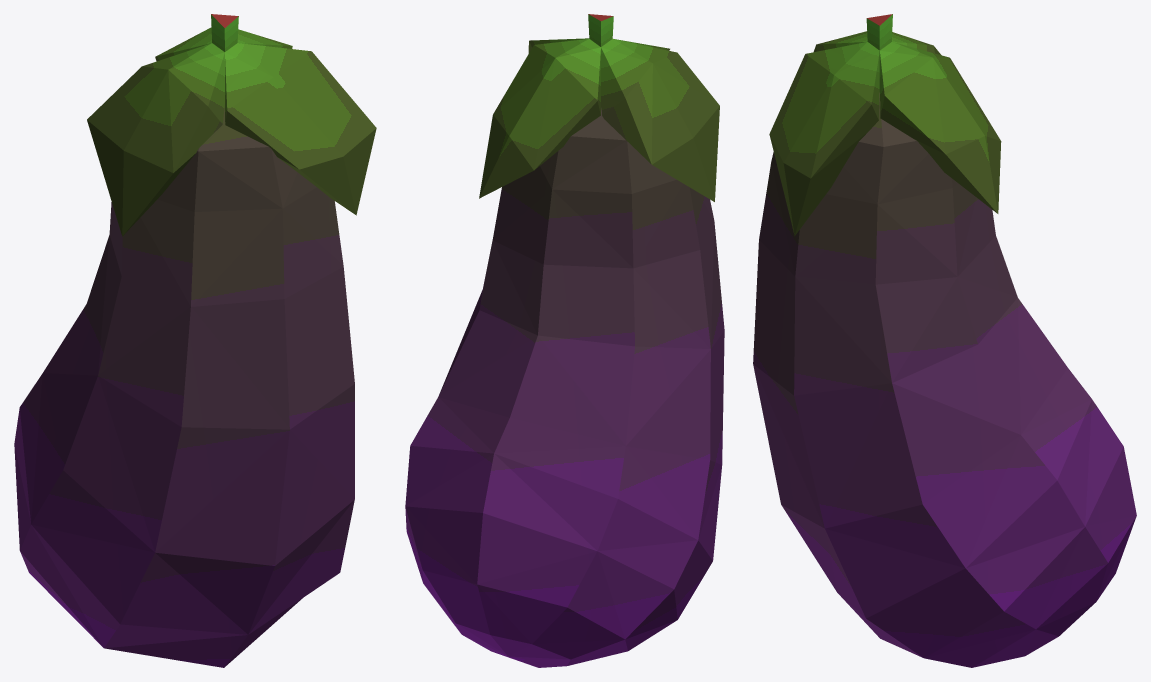
File: eggplant.obj
3 views of the same model, side by side, from view 1: azimuth 30°, elevation 25°; view 2: azimuth 150°, elevation 25°; view 3: azimuth 270°, elevation 25° (orthographic). The views are drawn at different scales.
Parts seen in each view (by area): view 1: sphere1; view 2: sphere1; view 3: sphere1.
Part boxes in pixels (<box>): sphere1: <box>14,14,376,667</box>; sphere1: <box>405,14,724,667</box>; sphere1: <box>753,14,1136,667</box>.
Bounding box in the file's own units: 1.94 × 4.09 × 2.24.
Materials: 1 (1 with a texture image).
